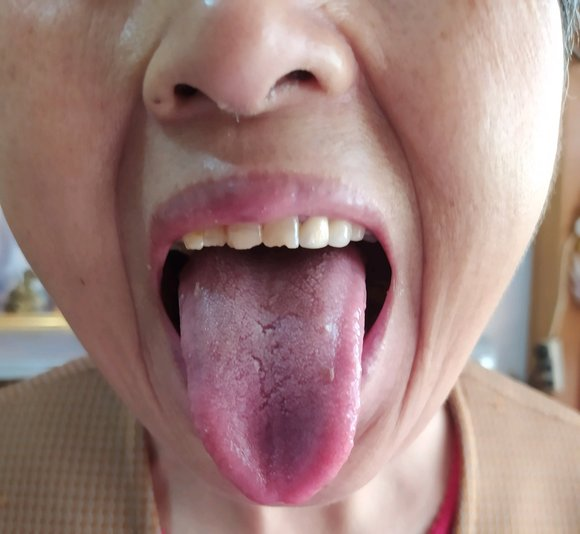baitaishe: (179, 245, 365, 505)
hongshe: (179, 246, 365, 506)
liewenshe: (249, 290, 297, 411)
piweiao: (244, 419, 313, 483)
shenquao: (227, 246, 330, 280)
